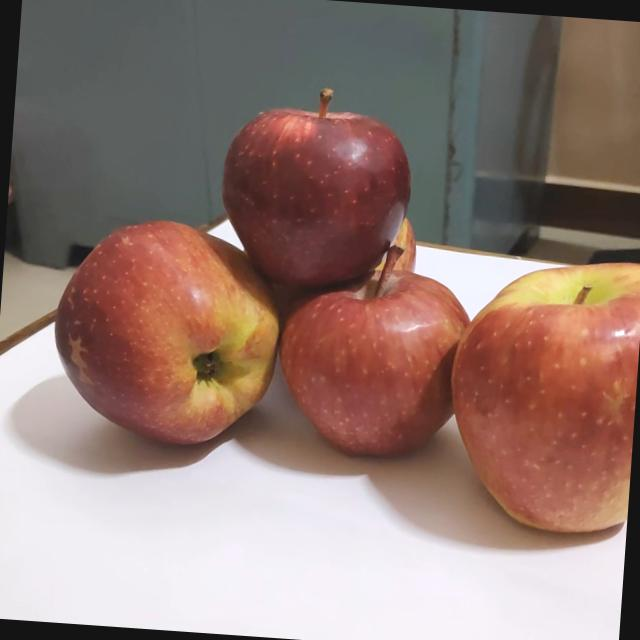apple: (46, 212, 298, 456), (446, 241, 640, 542), (208, 74, 426, 301), (272, 236, 478, 466), (238, 202, 420, 285)
